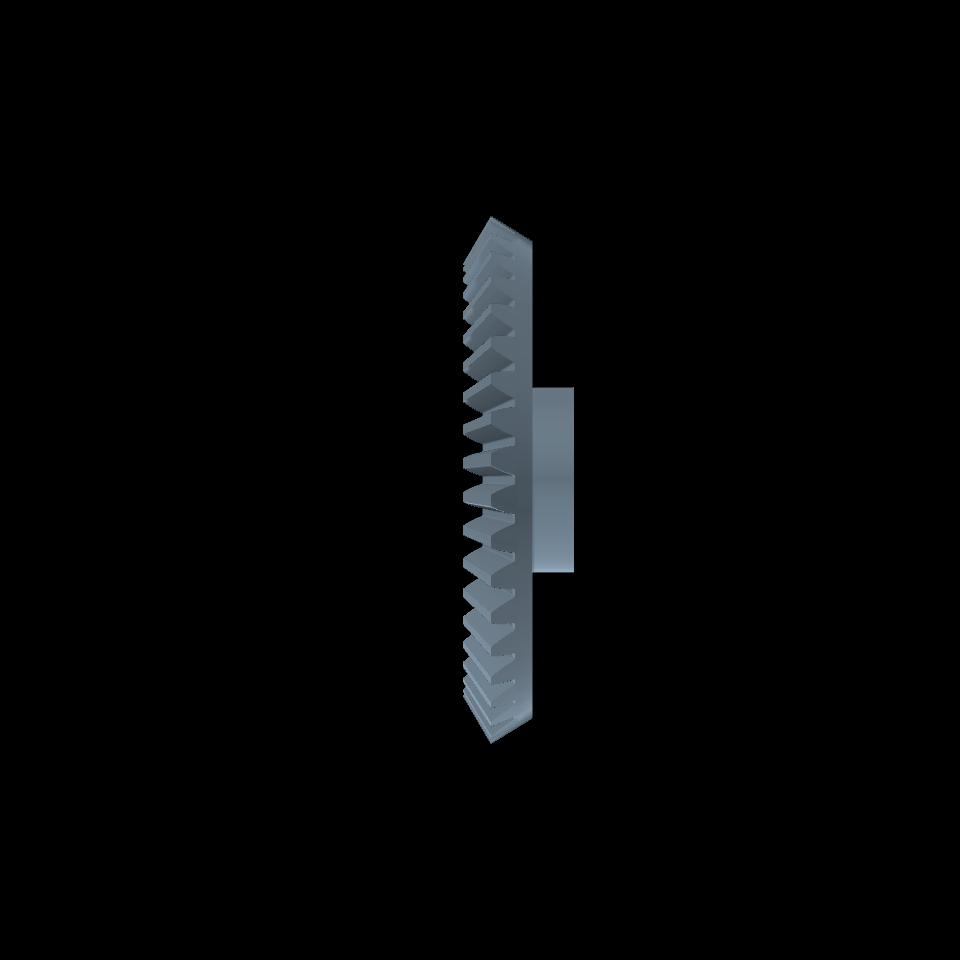Bevel: (462, 217, 531, 743)
